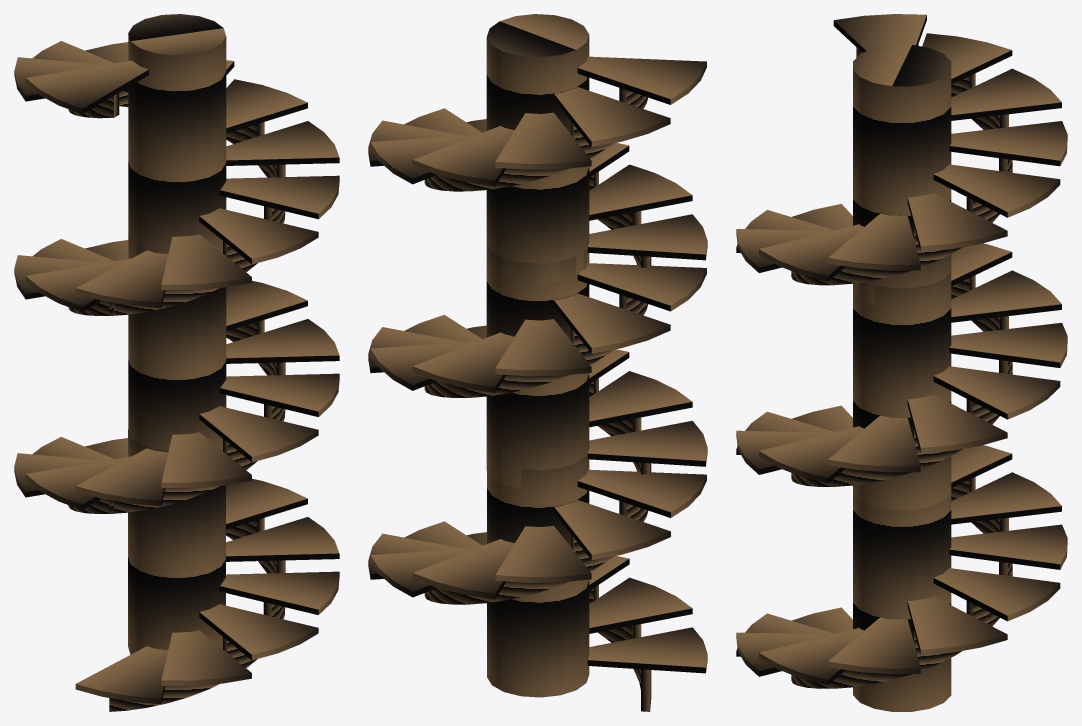
The model's file is stairs.FBX.
The picture shows the model from 3 angles, left to right: view 1: azimuth 30°, elevation 25°; view 2: azimuth 150°, elevation 25°; view 3: azimuth 270°, elevation 25°; orthographic projection. The views are drawn at different scales.
Parts seen in each view (by area): view 1: SpiralStair014; view 2: SpiralStair014; view 3: SpiralStair014.
Boxes of the visible parts, bbox=[...] form: SpiralStair014: bbox=[14, 14, 339, 711]; SpiralStair014: bbox=[368, 14, 707, 711]; SpiralStair014: bbox=[736, 14, 1067, 711].
Size of the model in its own units: 158 by 345 by 158.
1 material, 1 textured.
